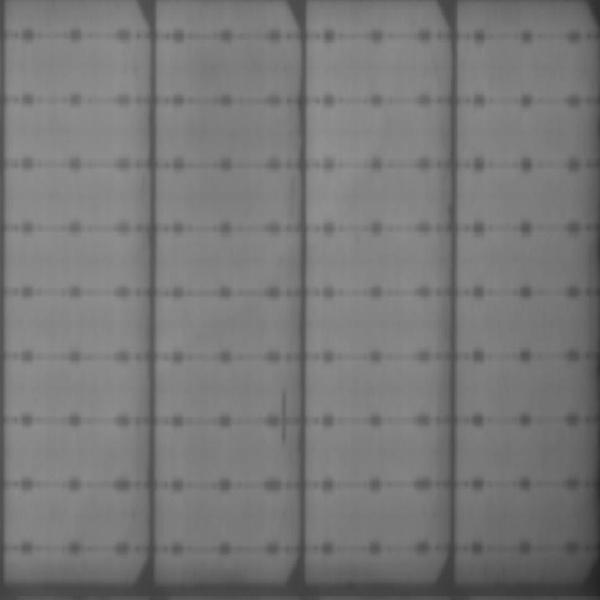scratch: (274, 380, 292, 455)
